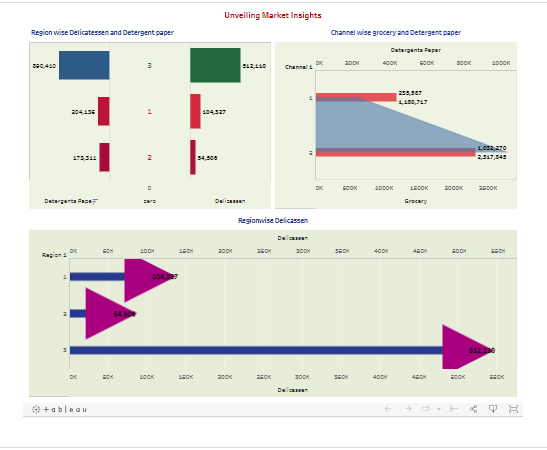

What the dashboard file says about the page in this screenshot:
{"tool":"tableau","page":{"name":"Dashboard 2","canvas":[1000,800],"ordinal":1},"visuals":[{"type":"title","box":[8,8,984,41]},{"type":"worksheet","title":"rwdeli & deter","mark":"Automatic","rows":["Region (copy)_1689131345984946176"],"cols":["Detergents_Paper","Calculation_1452129415632297984","Delicassen"],"box":[8,49,492,371.5]},{"type":"worksheet","title":"cwgrocery and deter","mark":"Automatic","rows":["Channel (copy)_1689131345987100674"],"cols":["Grocery","Detergents_Paper"],"box":[500,49,492,371.5]},{"type":"worksheet","title":"Rw Delicassen","mark":"Shape","rows":["Region (copy)_1689131345984946176"],"cols":["Delicassen","Delicassen"],"box":[8,420.5,984,371.5]}]}

Visuals, with their boxes on the page's 1000x800 design canvas (x1, y1, x2, y2). These are canvas units, not pixel positions in the 547x450 screenshot, which may show the page scaled, cropped or inside an application window:
title: BBox(8, 8, 992, 49)
"rwdeli & deter" worksheet: BBox(8, 49, 500, 420)
"cwgrocery and deter" worksheet: BBox(500, 49, 992, 420)
"Rw Delicassen" worksheet (Shape marks): BBox(8, 420, 992, 792)
